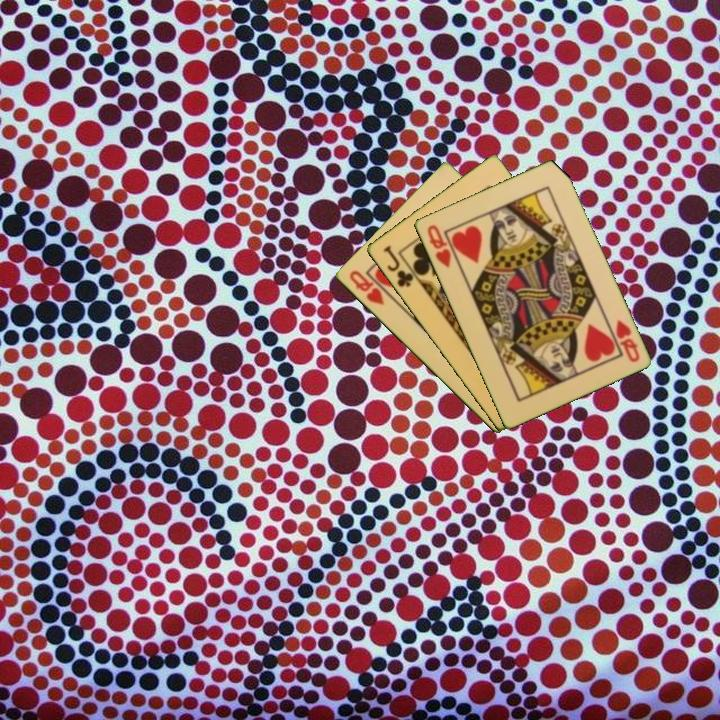Jc: (379, 242, 416, 290)
Qh: (345, 267, 387, 308), (423, 221, 454, 270), (612, 316, 642, 365)
